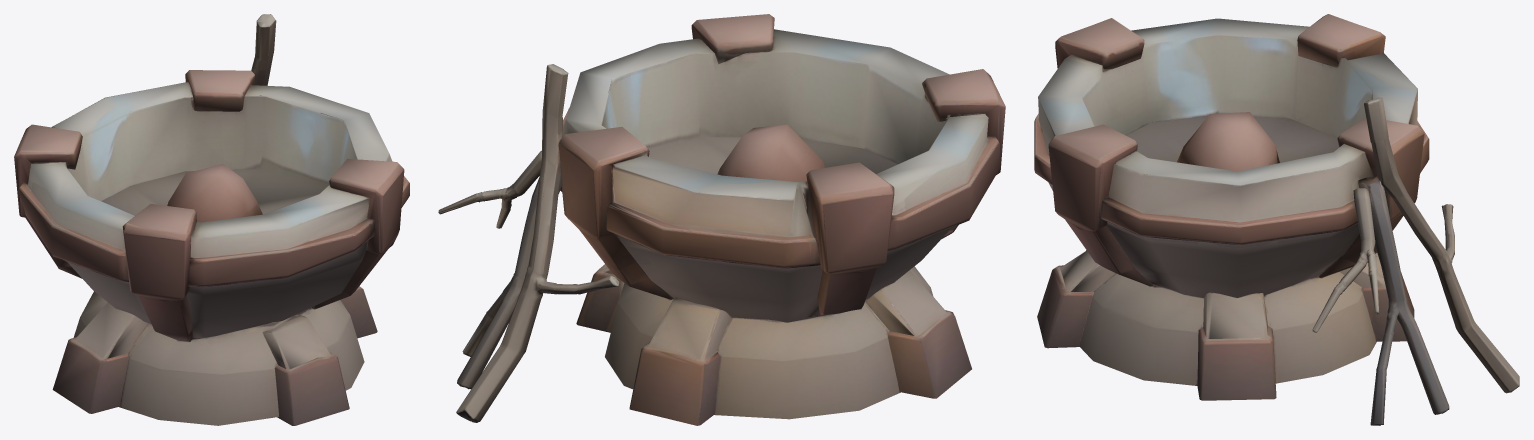
The model's file is fire_nourish_t3.glb.
3 views of the same model, side by side, from view 1: azimuth 30°, elevation 25°; view 2: azimuth 150°, elevation 25°; view 3: azimuth 270°, elevation 25° (orthographic). The views are drawn at different scales.
Parts seen in each view (by area): view 1: tripo_node_fd596e8b-5e9e-437d-82ad-083ff331bea0; view 2: tripo_node_fd596e8b-5e9e-437d-82ad-083ff331bea0; view 3: tripo_node_fd596e8b-5e9e-437d-82ad-083ff331bea0.
Part boxes in pixels (x1=…): tripo_node_fd596e8b-5e9e-437d-82ad-083ff331bea0: x1=14, y1=14, x2=409, y2=425; tripo_node_fd596e8b-5e9e-437d-82ad-083ff331bea0: x1=438, y1=14, x2=1005, y2=425; tripo_node_fd596e8b-5e9e-437d-82ad-083ff331bea0: x1=1034, y1=14, x2=1519, y2=425.
Bounding box in the file's own units: 0.998 × 0.6621 × 0.998.
1 material, 1 textured.
